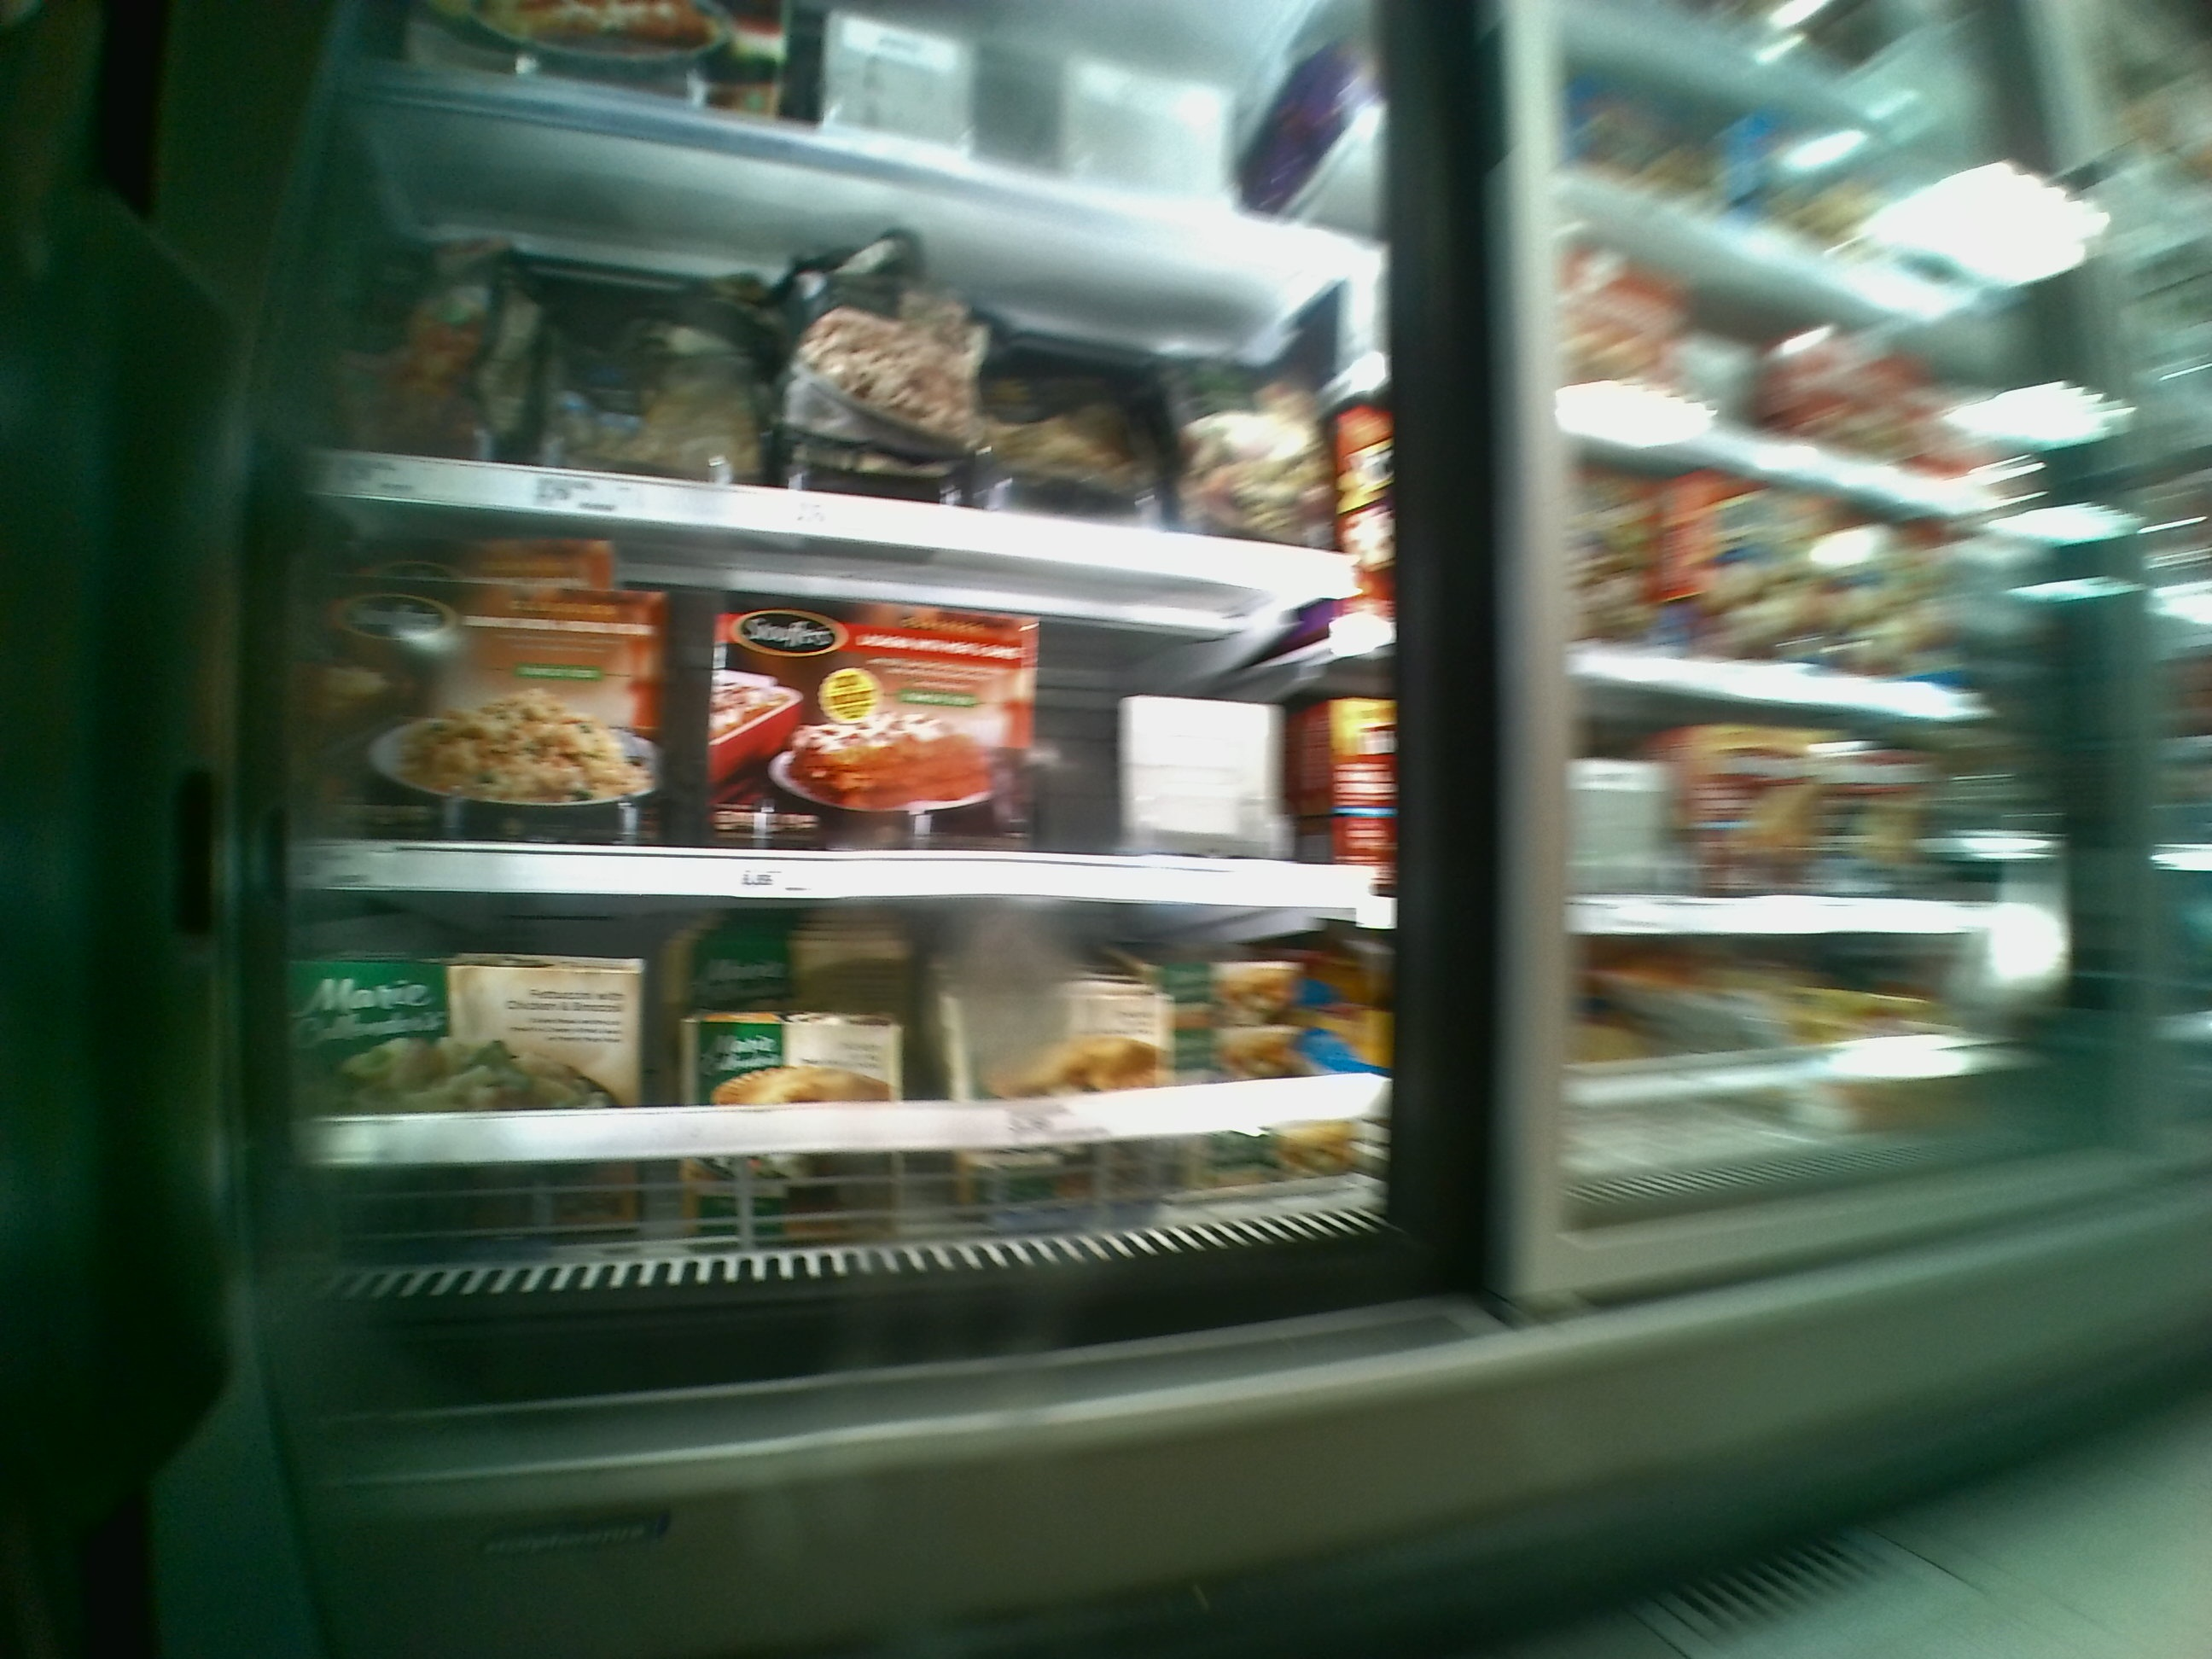shelf: (293, 890, 1393, 1283), (308, 200, 1367, 591), (303, 547, 1378, 896)
